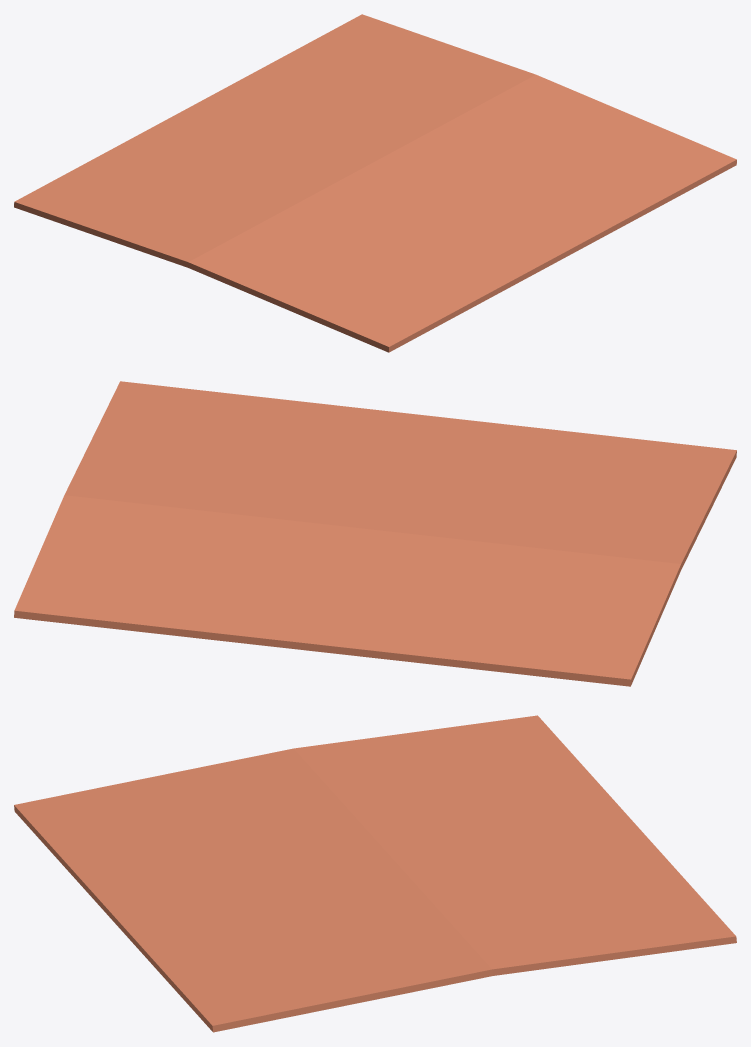
The model's file is TreehouseRoofFBX.fbx.
3 views of the same model, one above another, from view 1: azimuth 30°, elevation 25°; view 2: azimuth 150°, elevation 25°; view 3: azimuth 270°, elevation 25° (orthographic). The views are drawn at different scales.
Parts seen in each view (by area): view 1: Roof; view 2: Roof; view 3: Roof.
Boxes of the visible parts, x1,y1,x2,y2 form: Roof: (14,14,736,352); Roof: (14,381,736,686); Roof: (14,715,736,1032).
Bounding box in the file's own units: 1913 × 111 × 1838.
